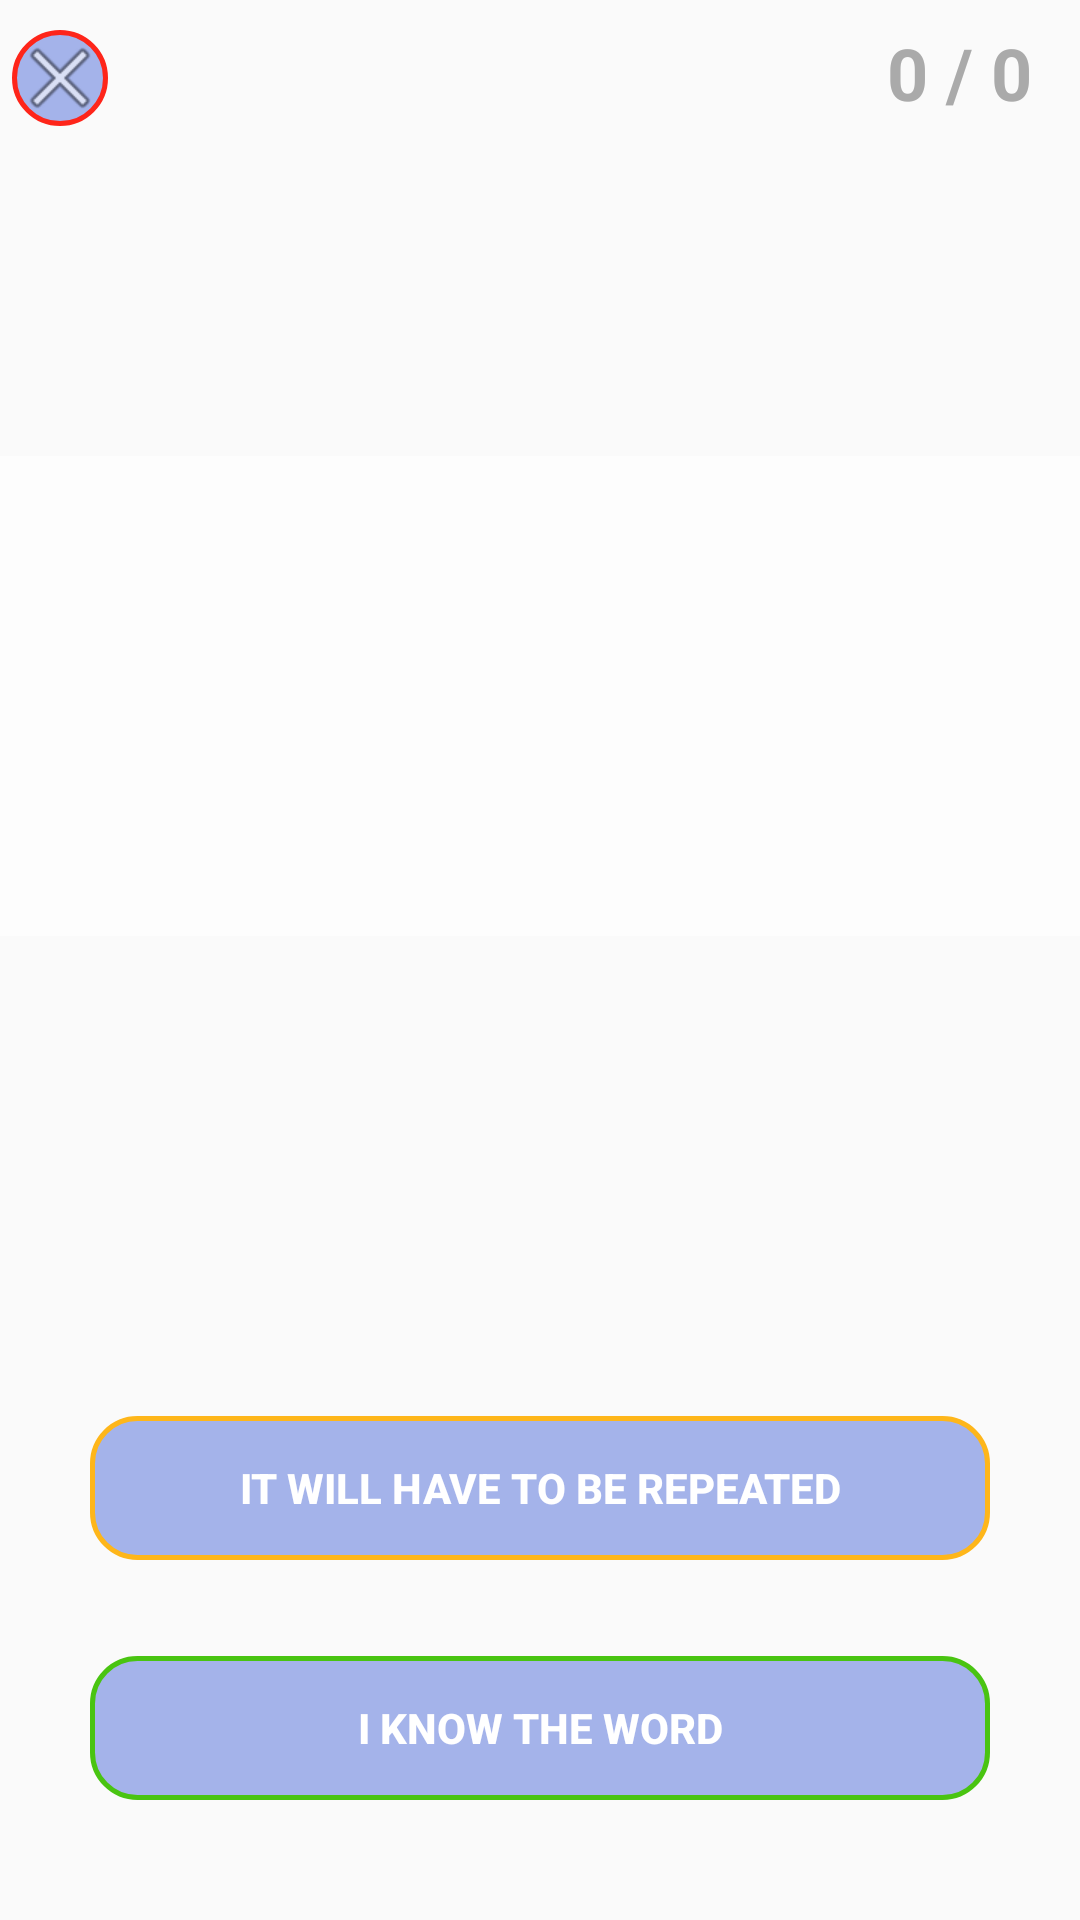

Point at icon controls on the screen. Image size 1080px x 1920px, points as [x,y].
close clear cancel: [60,78]
